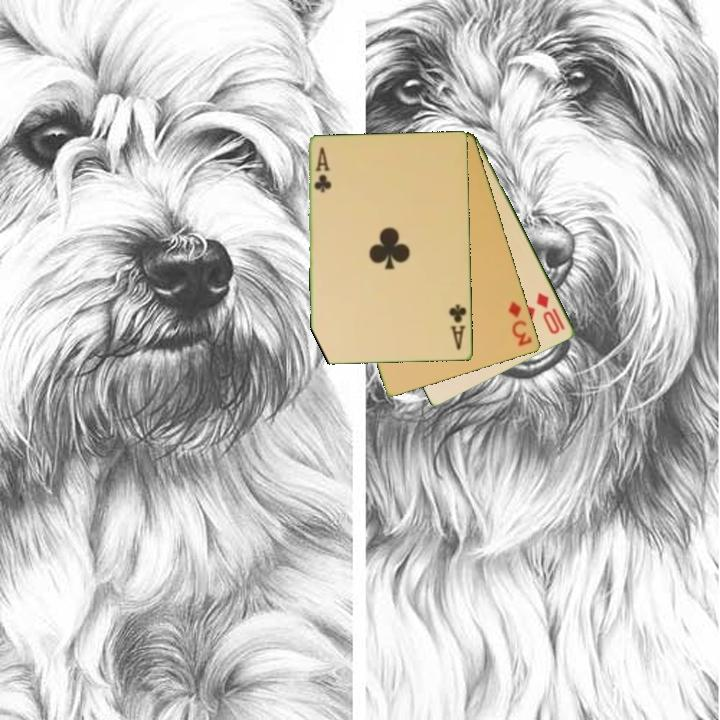10d: (533, 289, 568, 337)
3d: (505, 298, 536, 349)
Ac: (446, 301, 469, 353), (311, 144, 333, 195)
